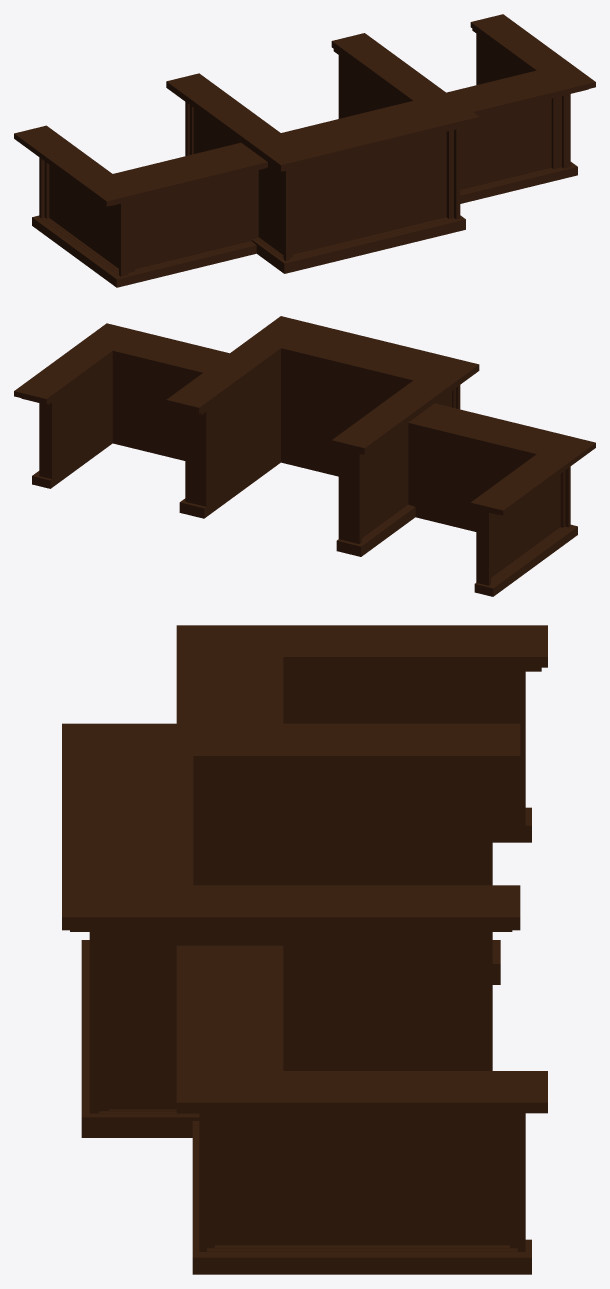
File: Judge_Podium.fbx
3 views of the same model, one above another, from view 1: azimuth 30°, elevation 25°; view 2: azimuth 150°, elevation 25°; view 3: azimuth 270°, elevation 25° (orthographic). The views are drawn at different scales.
Parts seen in each view (by area): view 1: Main_podium; view 2: Main_podium; view 3: Main_podium.
Boxes of the visible parts, left/top/right/bottom form: Main_podium: left=14, top=14, right=595, bottom=287; Main_podium: left=14, top=316, right=595, bottom=596; Main_podium: left=62, top=625, right=547, bottom=1274.
Bounding box in the file's own units: 3248 × 727 × 1397.
